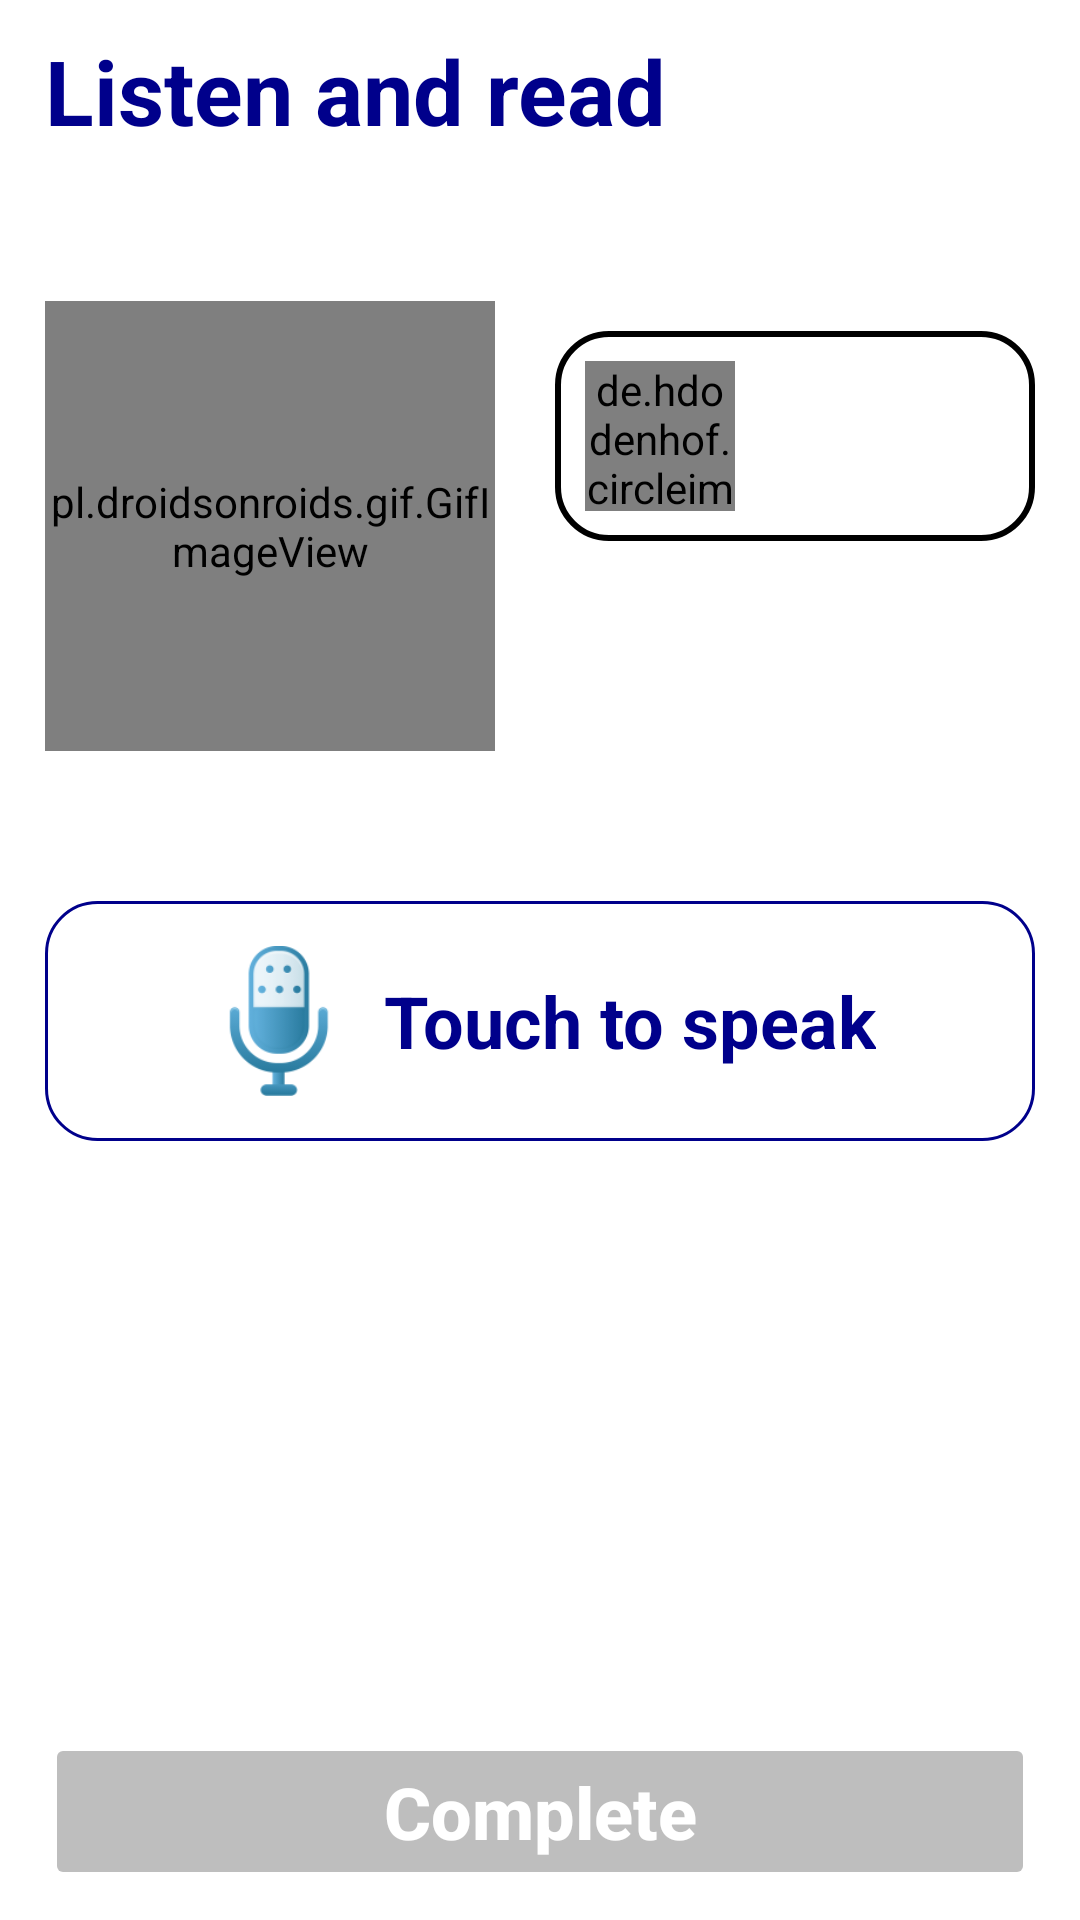

Screen size 1080x1920. Icon name, then its center in pixels as (x,y):
microphone: (279,1021)
